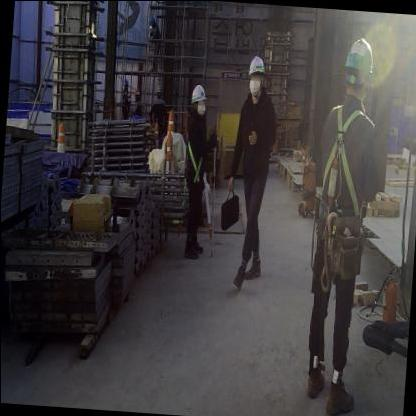Helmet: (336, 31, 380, 84), (243, 49, 268, 81), (185, 80, 209, 112)
safety-shoe: (320, 374, 355, 415), (298, 355, 325, 408)
